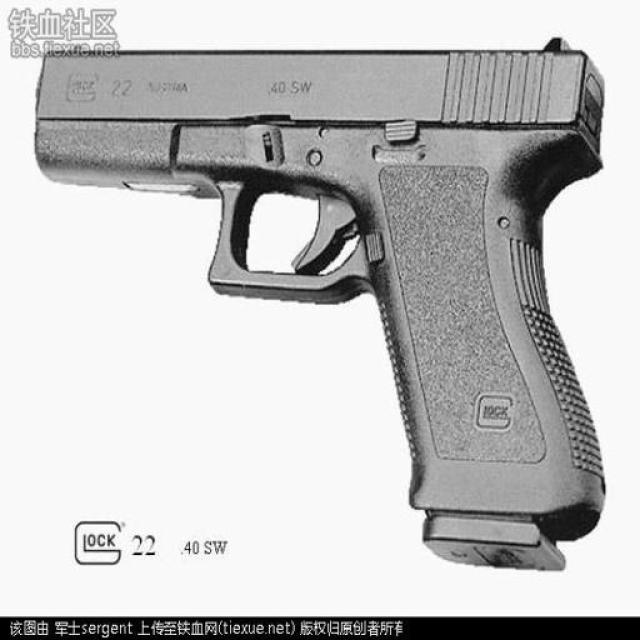pistol: (33, 35, 604, 574)
